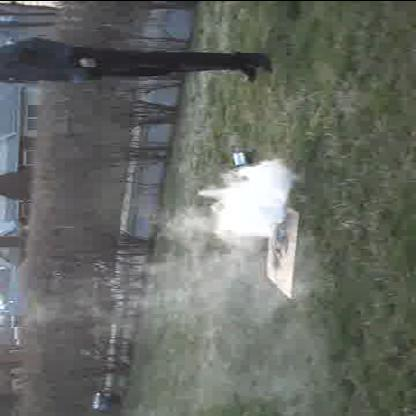Smoke: (207, 160, 301, 245)
